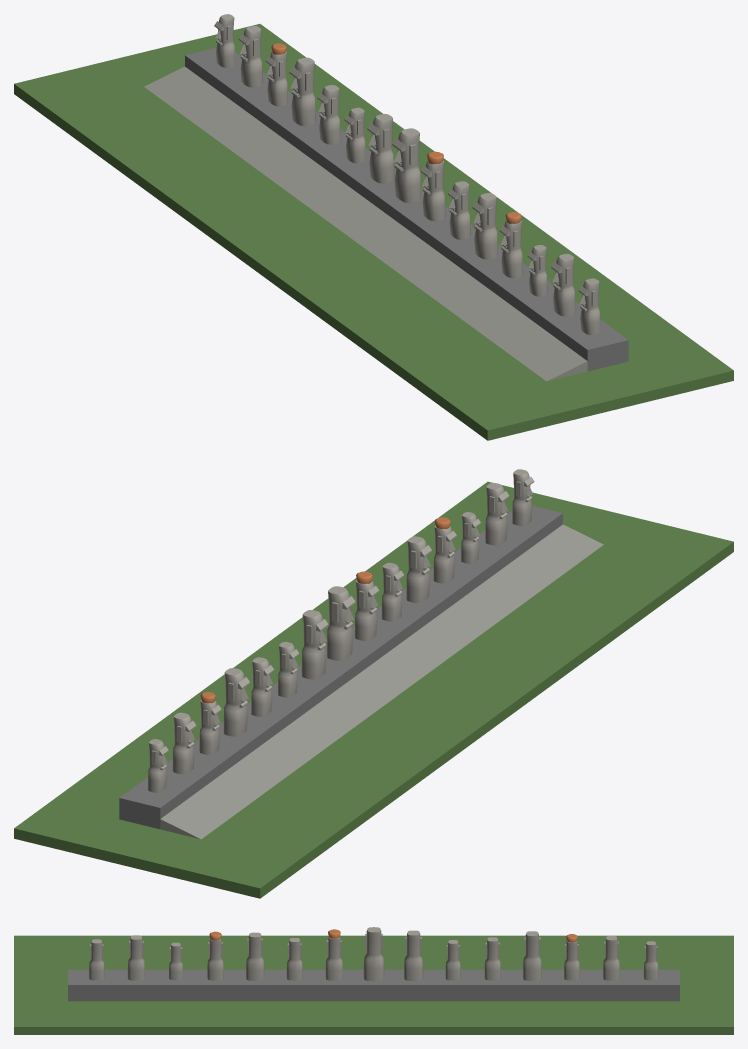
File: top-prebuilt.fbx
3 views of the same model, one above another, from view 1: azimuth 30°, elevation 25°; view 2: azimuth 150°, elevation 25°; view 3: azimuth 270°, elevation 25° (orthographic). The views are drawn at different scales.
Parts seen in each view (by area): view 1: landmark-moai_platform/0/top-prebuilt; view 2: landmark-moai_platform/0/top-prebuilt; view 3: landmark-moai_platform/0/top-prebuilt.
Part boxes in pixels (x1=…): landmark-moai_platform/0/top-prebuilt: x1=14, y1=14, x2=733, y2=440; landmark-moai_platform/0/top-prebuilt: x1=14, y1=469, x2=733, y2=898; landmark-moai_platform/0/top-prebuilt: x1=14, y1=927, x2=733, y2=1034.
Bounding box in the file's own units: 30 × 11.2 × 100.
